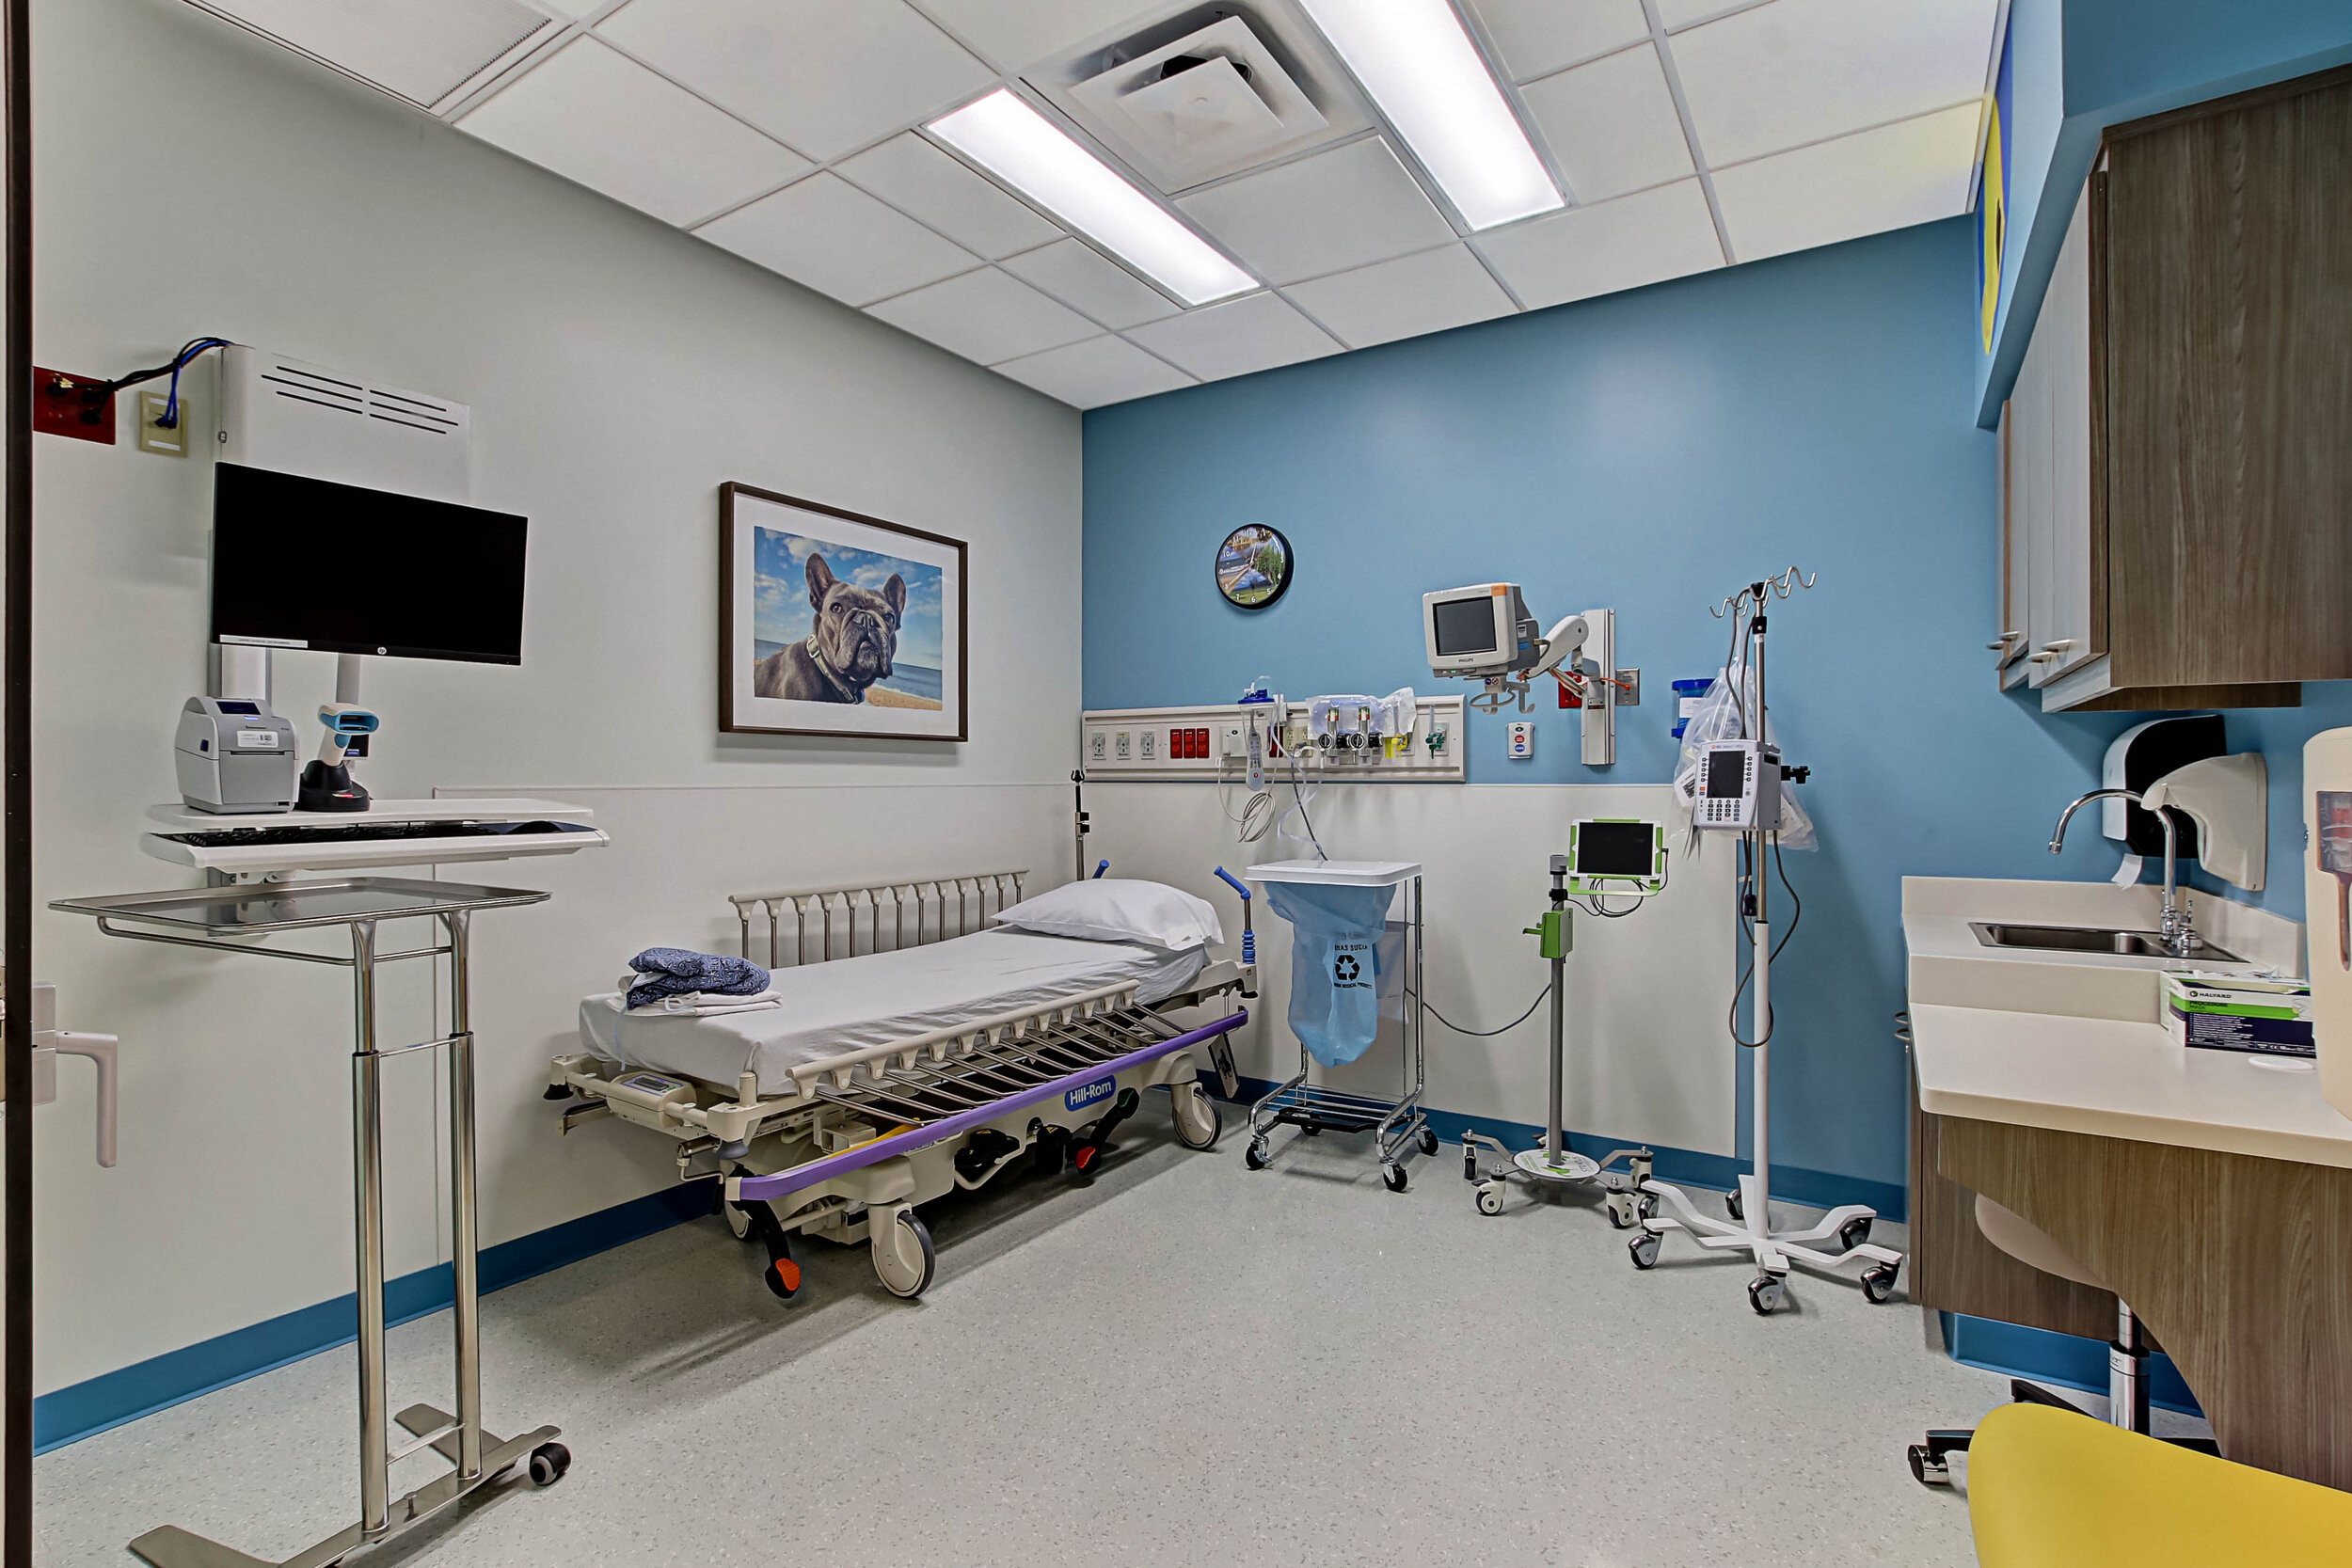TV: (1416, 581, 1552, 672)
bedrail: (810, 1003, 1186, 1109), (724, 884, 1020, 959)
bedside_monitor: (1571, 817, 1666, 898)
cabinet: (1962, 142, 2352, 721)
chair: (1937, 1181, 2210, 1479)
computer: (203, 458, 539, 675)
counter: (1878, 857, 2352, 1498)
countertop: (1906, 868, 2347, 1164)
dispenser: (2095, 710, 2221, 870), (2149, 751, 2278, 894)
faucet: (2161, 887, 2217, 966)
handle: (2040, 637, 2077, 658), (2023, 653, 2060, 672), (2000, 625, 2025, 646), (1983, 630, 2002, 656)
hospital_bed: (579, 826, 1223, 1318)
iv_pole: (1685, 555, 1815, 1211)
keyboard: (154, 829, 525, 847)
sink: (1967, 908, 2250, 973)
utility_cart: (45, 887, 577, 1568)
waste_bin: (1241, 856, 1445, 1195)
